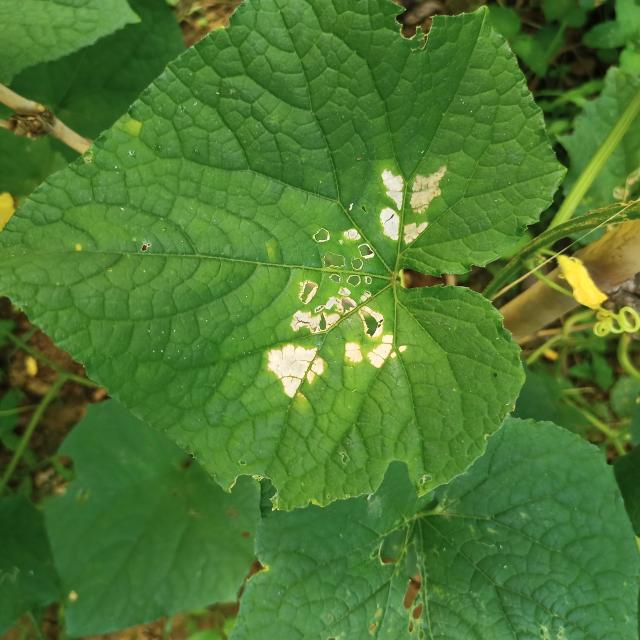disease_cucumber: (252, 222, 411, 408), (366, 158, 457, 248)
